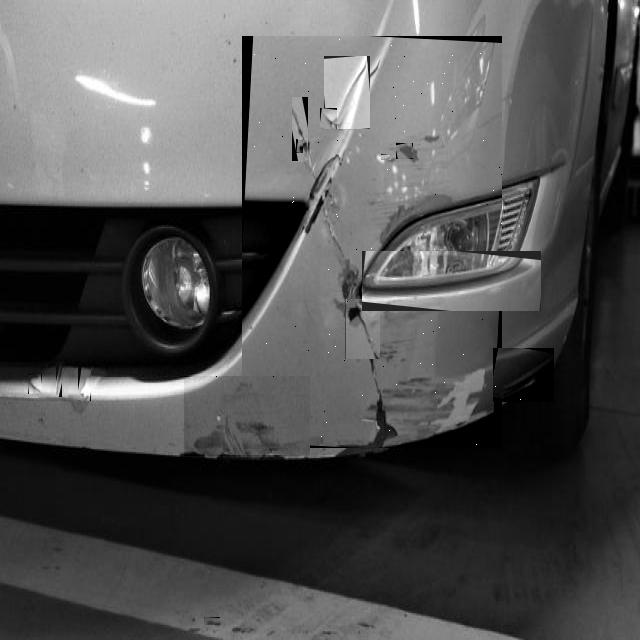Dent: (242, 36, 502, 448), (362, 251, 541, 311), (184, 376, 310, 456), (324, 56, 370, 129), (493, 348, 554, 402), (345, 299, 380, 359), (292, 98, 308, 164), (78, 367, 91, 401), (320, 108, 337, 129), (28, 374, 42, 394), (396, 143, 413, 159), (56, 362, 62, 397), (204, 617, 220, 625), (296, 141, 303, 153), (381, 154, 391, 160)
